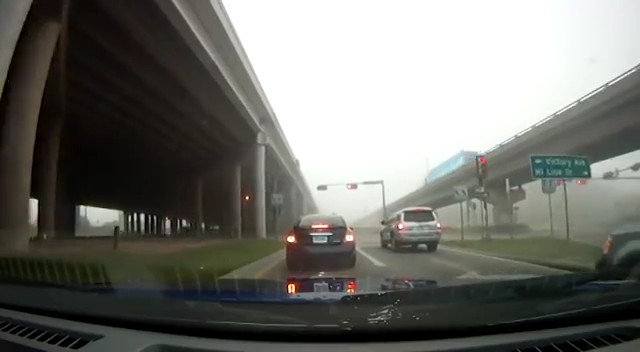car: (284, 212, 358, 269), (380, 207, 442, 251)
